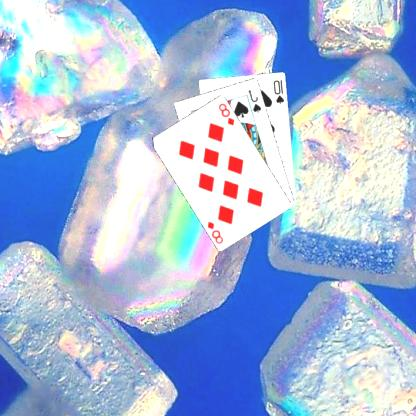10S: (273, 77, 287, 105)
8D: (218, 100, 238, 127), (206, 219, 226, 245)
JS: (248, 87, 264, 114)
